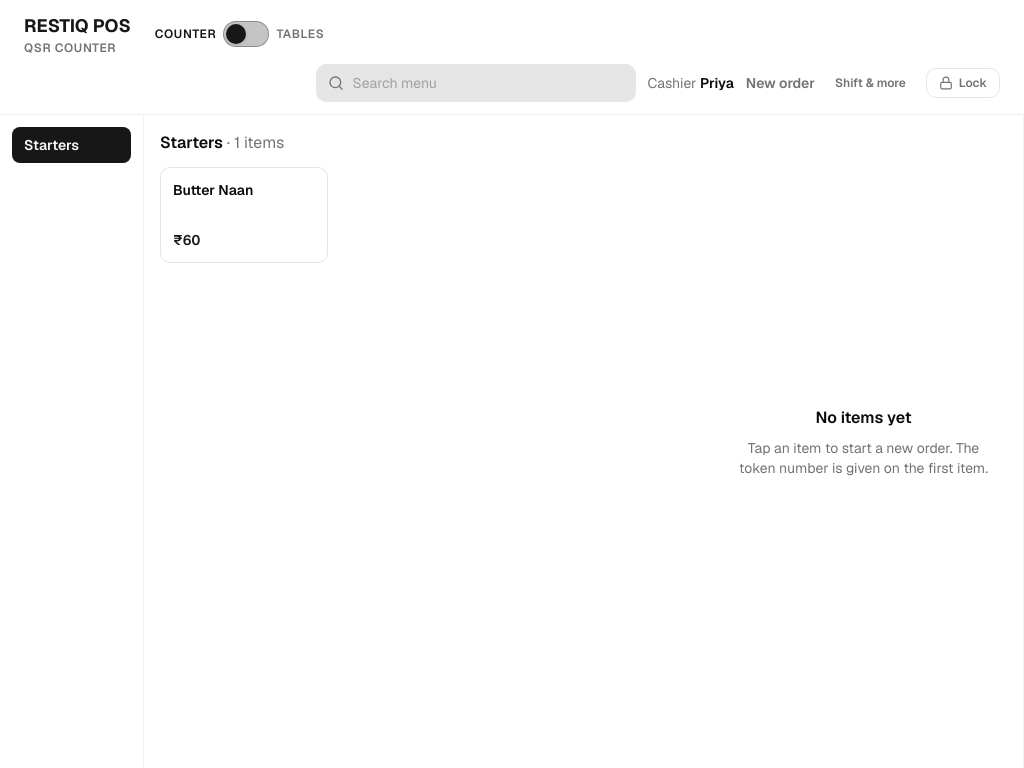
Test case: CounterView - starting a counter order (restiq-web#343) › creates the order and its token on the first item, and remembers it for a reload
The width and height of the screenshot is (1024, 768).
Click the button with test id "item-tile-item-naan" at [244, 215], box x1=160 y1=167 x2=328 y2=263
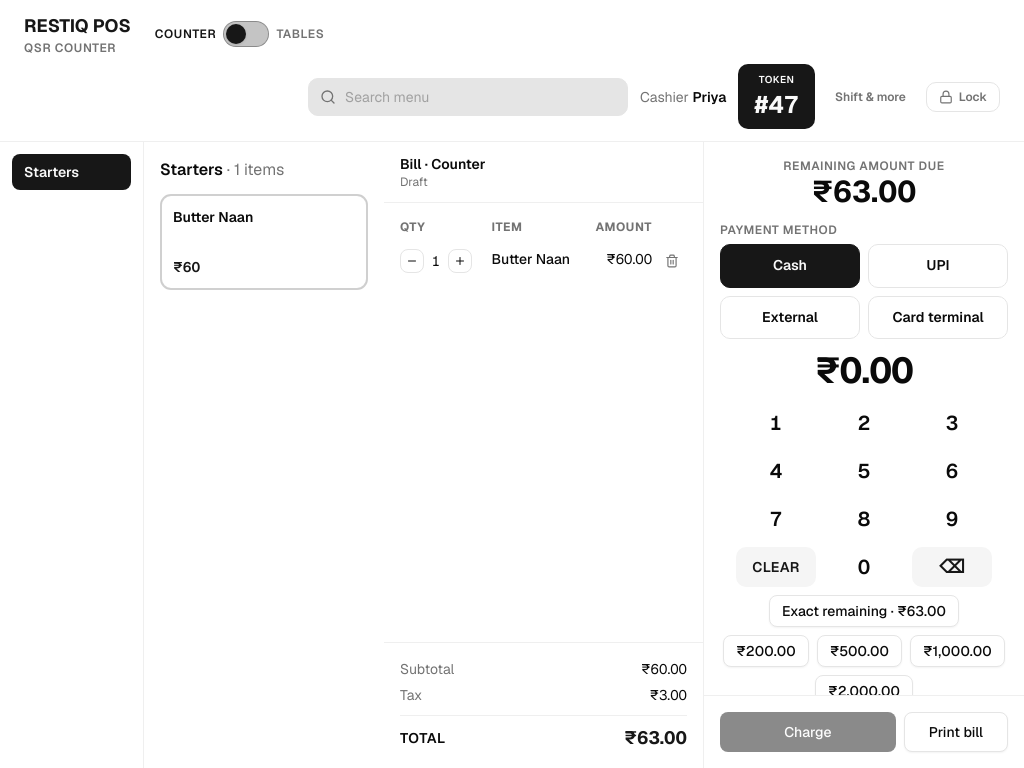
Result: the row with test id "bill-line-line-1" is shown at x1=400 y1=243 x2=687 y2=279
Result: the text with test id "token-badge-number" reads "#47" at x1=754 y1=89 x2=799 y2=121
